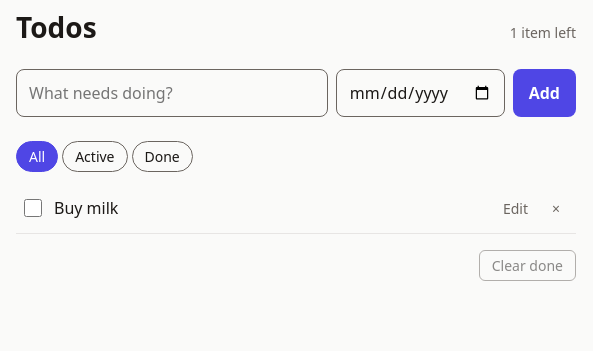
it: App › editing › shows an error when rename fails
expect the text "Buy milk" is shown: met, box x1=54 y1=196 x2=118 y2=220
Click the button with aria-label "Edit Buy milk": (515, 208) x1=495 y1=196 x2=536 y2=221
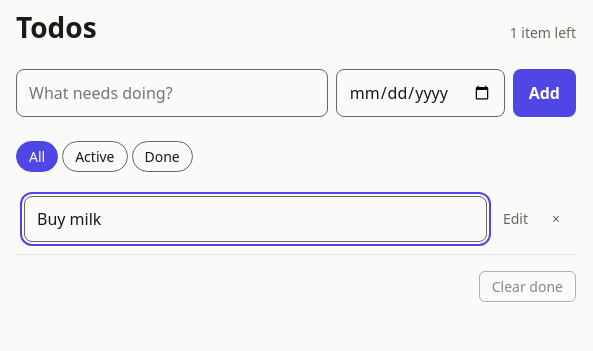
In the field named "Edit title of Buy milk": (255, 219) x1=24 y1=196 x2=487 y2=242, type " x"
Then press Enter
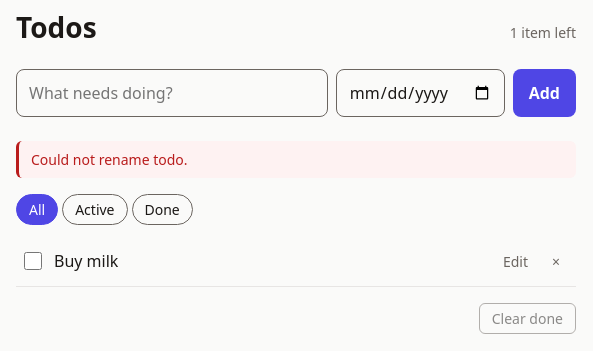
expect the message reads "Could not rename todo.": met, box x1=31 y1=150 x2=188 y2=169
expect the text "Buy milk" is shown: met, box x1=54 y1=249 x2=118 y2=273
